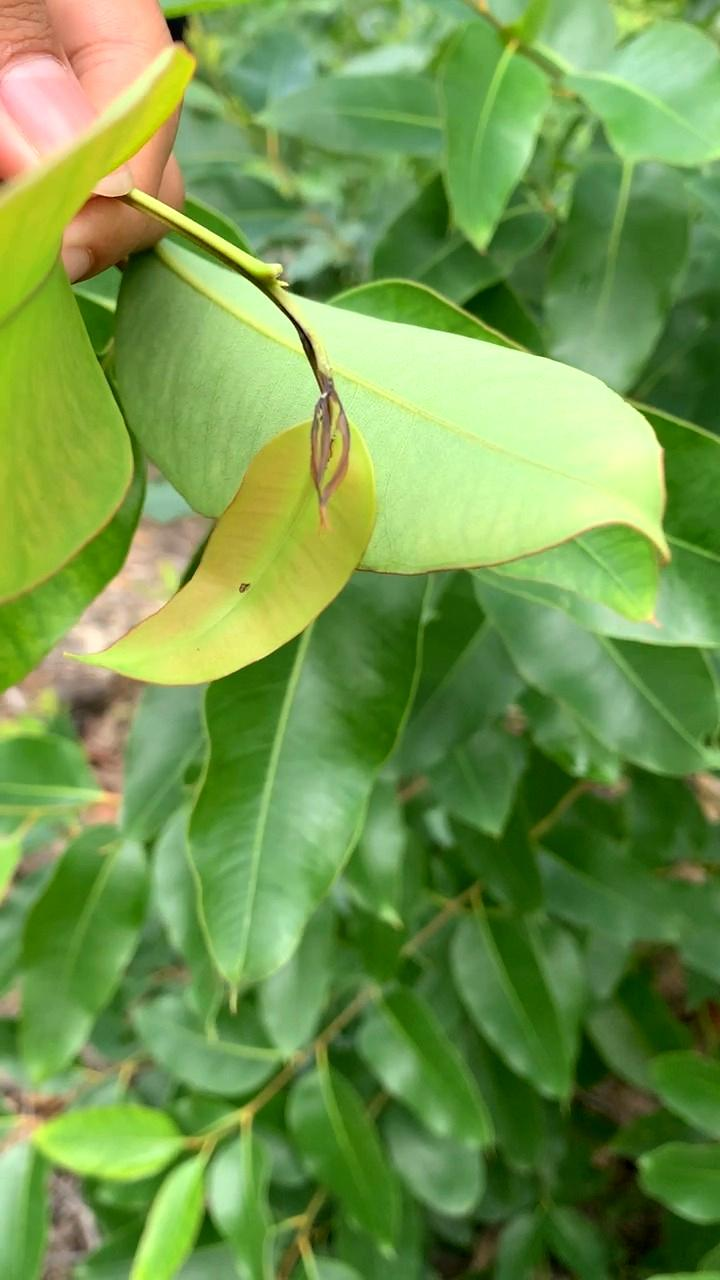Helopeltis-Withered Sprout: (288, 346, 365, 542)
